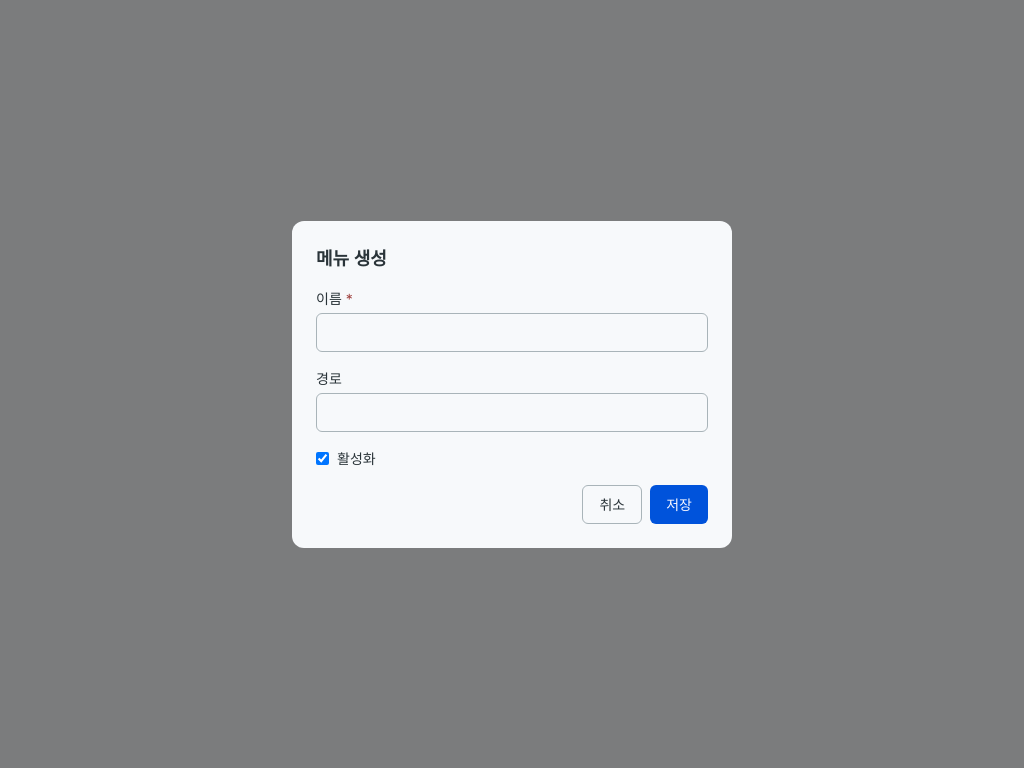
MenuFormDialog › 이름 필드가 비어 있을 때 에러 메시지를 표시한다
The width and height of the screenshot is (1024, 768).
Click the button "저장" at (679, 504), box [650,484,708,524]
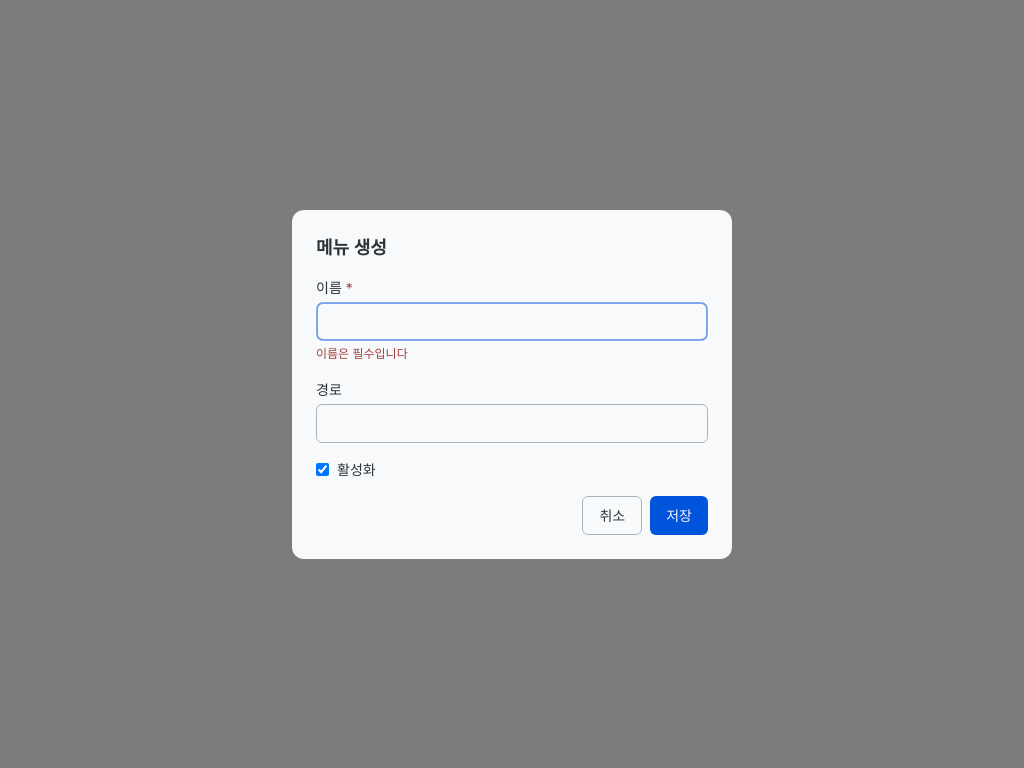
Expected: the text "이름은 필수입니다" is shown, [316,346,408,360]
